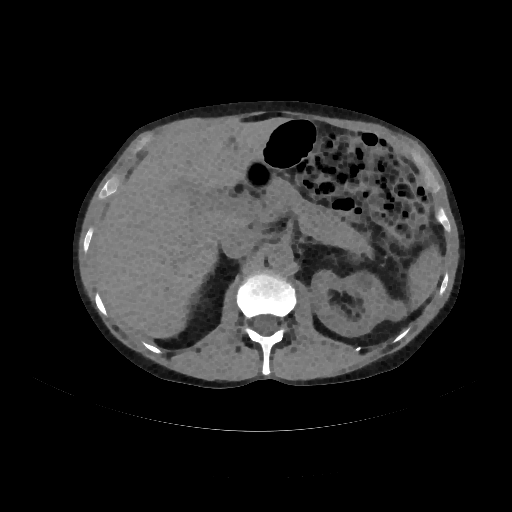Lesion: (379, 292, 410, 325)
